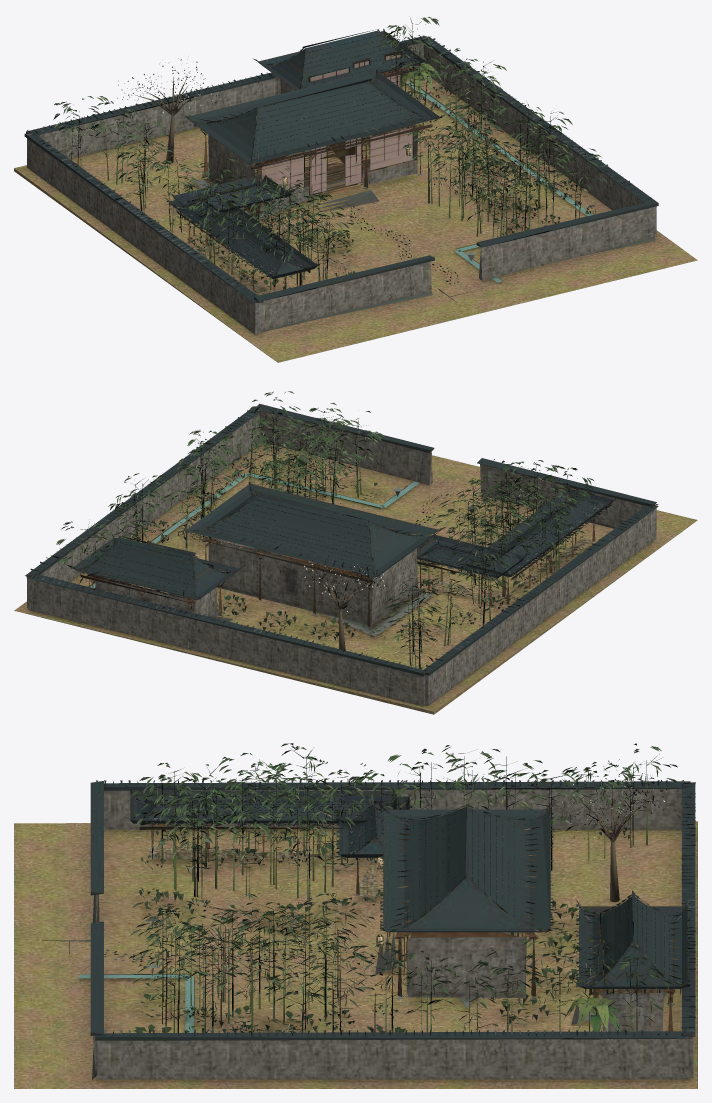
The model's file is r5-bake-probe.glb.
3 renders of one model, top to bottom at view 1: azimuth 30°, elevation 25°; view 2: azimuth 150°, elevation 25°; view 3: azimuth 270°, elevation 25°, orthographic. The views are drawn at different scales.
Parts seen in each view (by area): view 1: Mobile_xiaoxiangguan; view 2: Mobile_xiaoxiangguan; view 3: Mobile_xiaoxiangguan.
Boxes of the visible parts, <box> form: Mobile_xiaoxiangguan: <box>14,17,697,362</box>; Mobile_xiaoxiangguan: <box>14,391,697,714</box>; Mobile_xiaoxiangguan: <box>14,743,697,1088</box>.
Size of the model in its own units: 34 by 7.38 by 37.
Materials: 2 (1 with a texture image).
